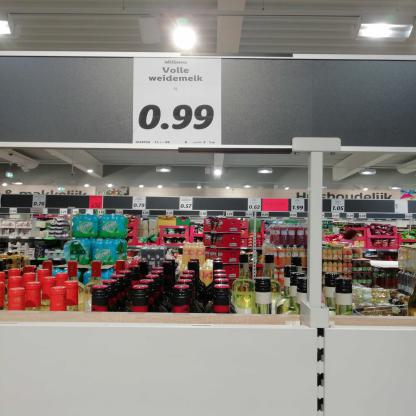prtg: (134, 58, 223, 146)
